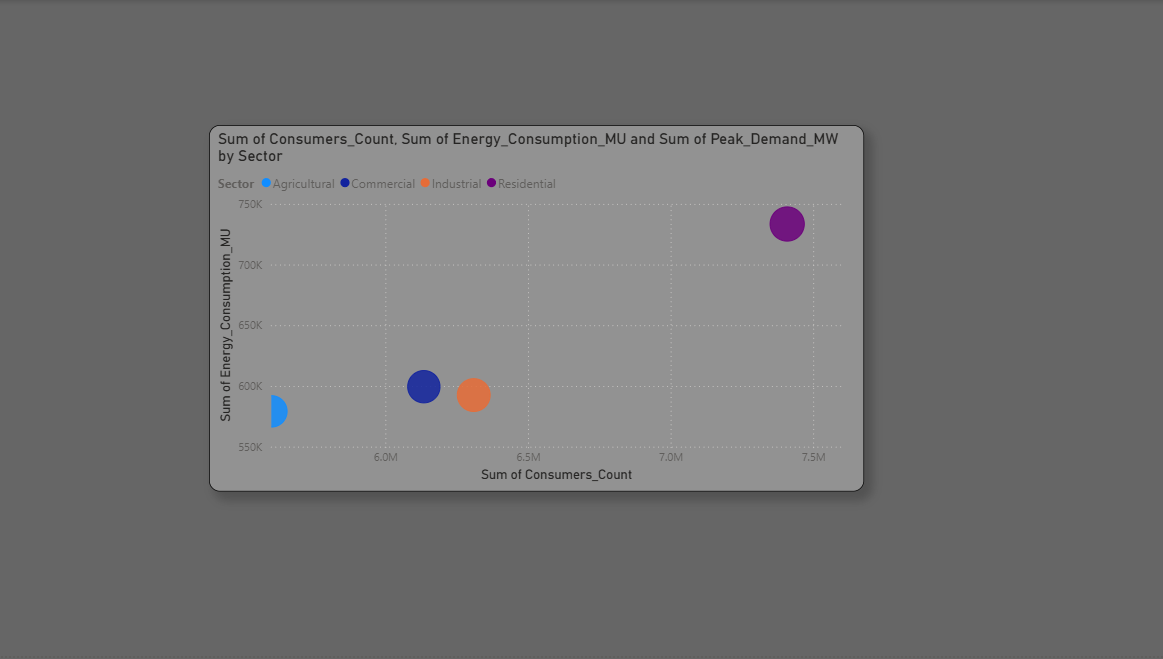

The dashboard page shown, as its layout file describes it:
{"tool":"powerbi","page":{"name":"SCATTER CHART","canvas":[1280,720],"ordinal":1},"visuals":[{"type":"scatterChart","fields":{"X":["Energy_Sustainability_Government_Dataset_1000_Rows.Consumers_Count"],"Y":["Sum(Energy_Sustainability_Government_Dataset_1000_Rows.Energy_Consumption_MU)"],"Size":["Sum(Energy_Sustainability_Government_Dataset_1000_Rows.Peak_Demand_MW)"],"Series":["Energy_Sustainability_Government_Dataset_1000_Rows.Sector"]},"box":[230.5,137.2,719,402.1],"z":0}]}

Visuals, with their boxes in screenshot pixels (x1, y1, x2, y2), scaled from the page's 1280x720 canvas onto the 1163x659 screenshot:
scatterChart - Energy_Sustainability_Government_Dataset_1000_Rows.Consumers_Count x Sum(Energy_Sustainability_Government_Dataset_1000_Rows.Energy_Consumption_MU): <box>209,126,863,494</box>
